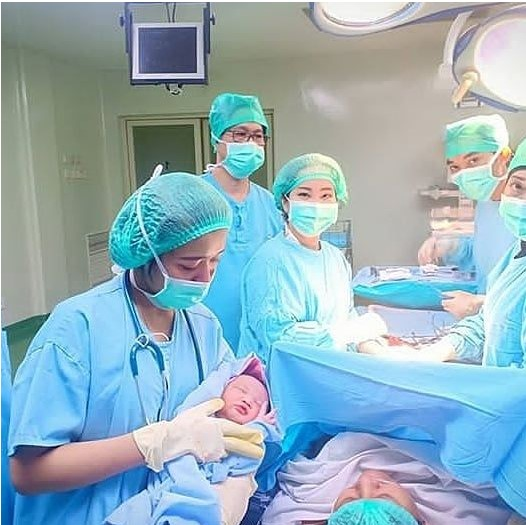face_no_mask: (217, 371, 269, 424)
face_with_mask: (108, 171, 238, 315), (274, 151, 349, 243), (439, 114, 514, 205), (208, 91, 268, 180), (496, 141, 525, 243)
